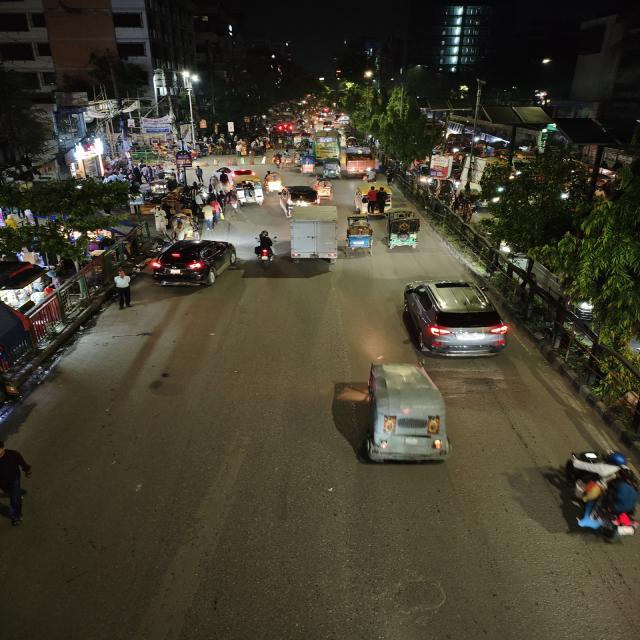bus: (312, 130, 341, 158)
car: (396, 276, 516, 362), (147, 236, 240, 290), (0, 258, 58, 314), (276, 184, 323, 208)
cng: (341, 352, 463, 474), (384, 215, 426, 251), (318, 157, 342, 179)
human_hauler: (229, 175, 267, 210), (354, 183, 394, 214)
motorcycle: (551, 445, 640, 546), (250, 231, 281, 267), (272, 152, 286, 168)
pedestrian: (0, 434, 45, 529), (106, 269, 136, 310), (342, 148, 376, 176), (199, 200, 218, 230), (194, 164, 206, 183)
rickshaw: (384, 214, 427, 252), (341, 215, 377, 252), (263, 170, 284, 196), (296, 152, 317, 172)
truck: (287, 203, 342, 265)
